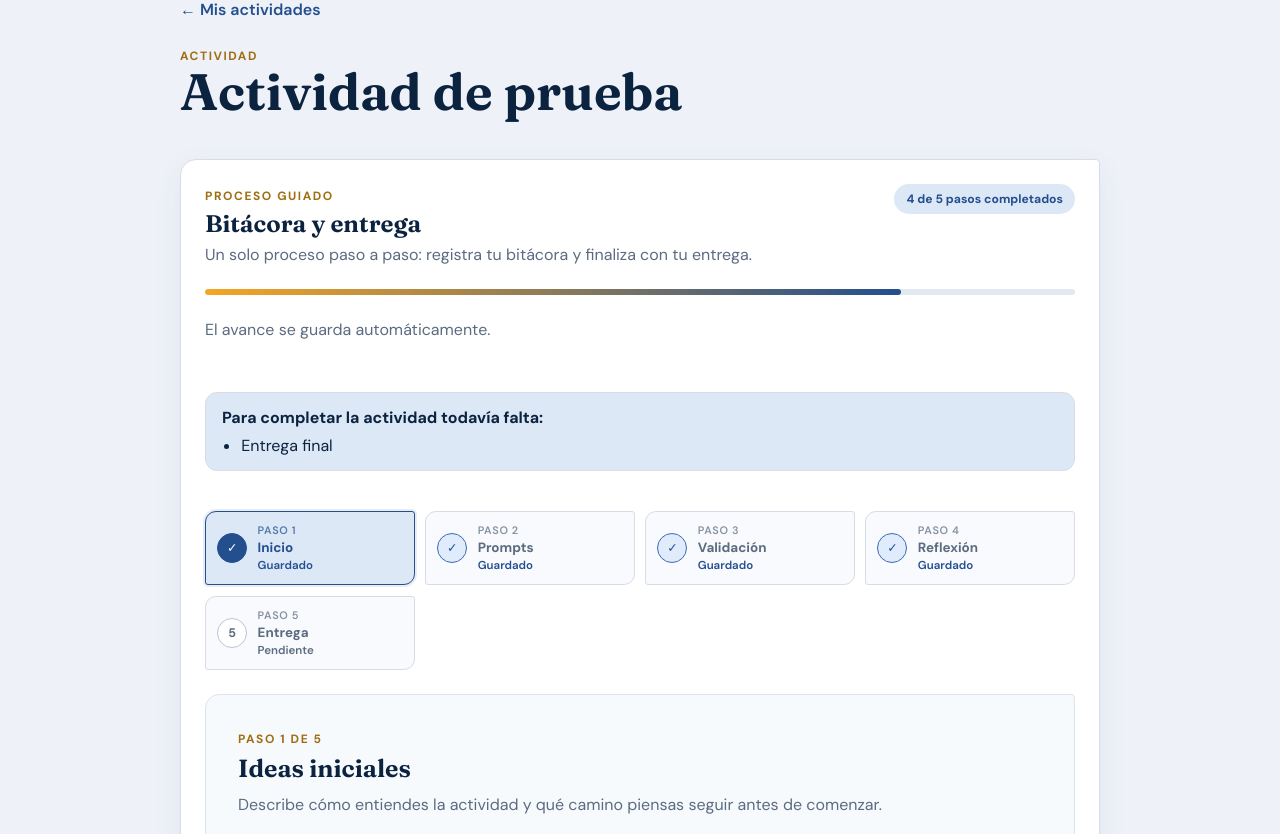
StudentActivityView - nivel declarado de IA › enumera los pasos incompletos que todavía hacen falta
Click the button with class "logbook-step-button" showing "✓ Paso 3 Validación Guardado" at (750, 548), box [645,510,855,585]
(page scrolled)
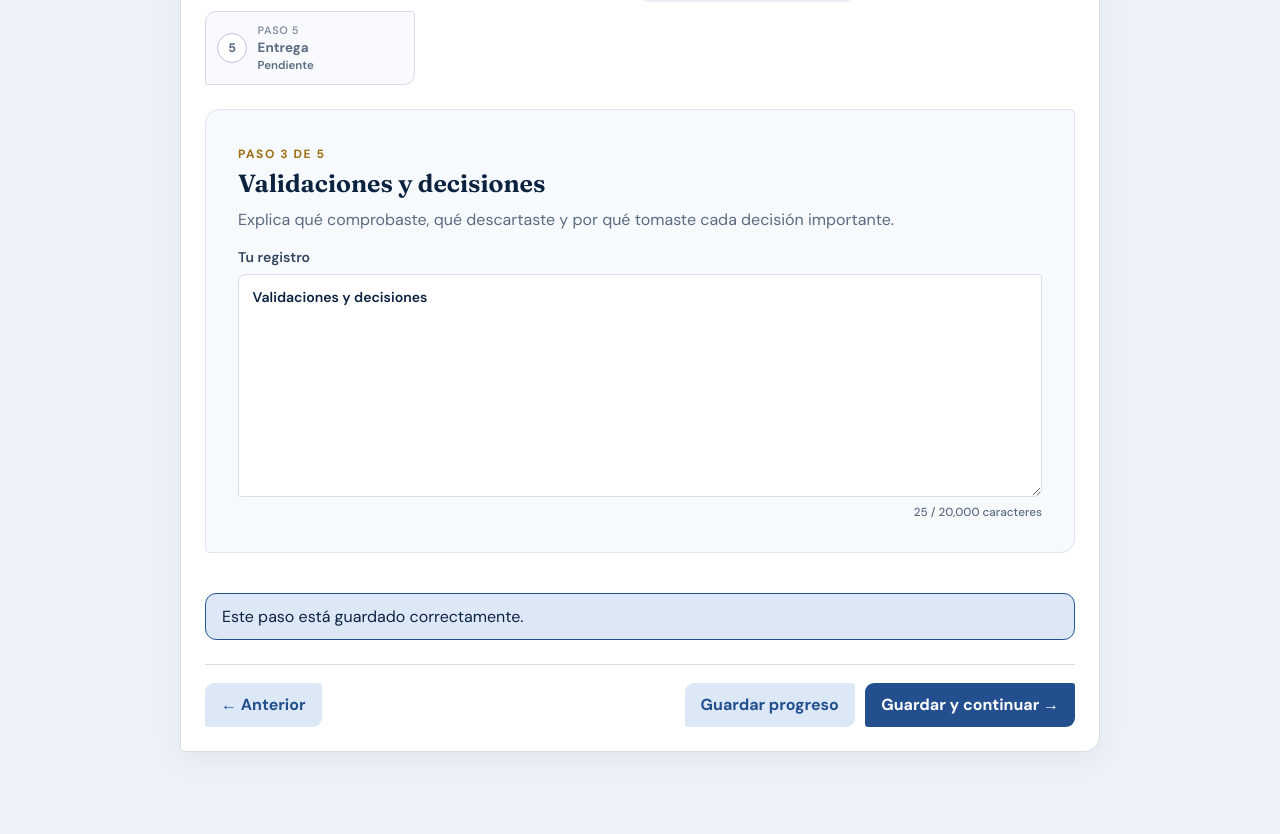
Clear the text box labelled "Tu registro 25 / 20,000 caracteres" at (640, 385), box [238,274,1042,497]
(page scrolled)
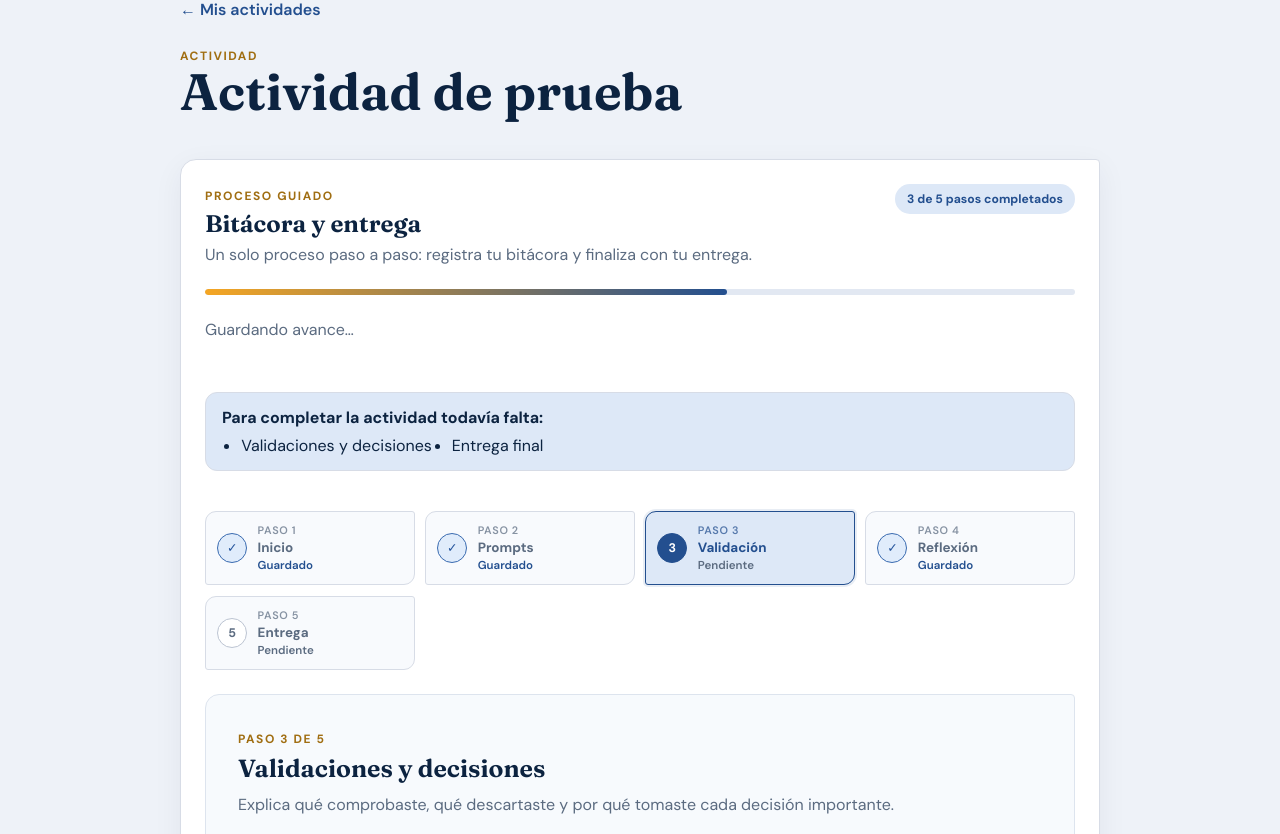
Expected: the text "Entrega final" is shown, [452,435,543,456]
Now the text "Validaciones y decisiones" is shown, box [241,435,432,456]
Now the 1st text with class "step-save-status" reads "Pendiente", box [698,558,754,573]
